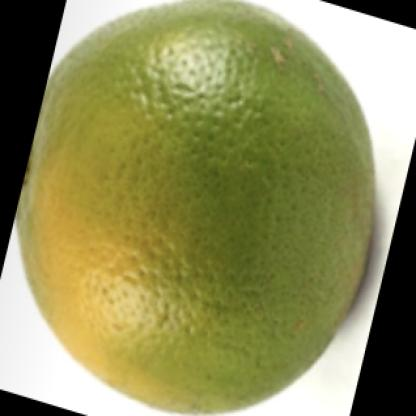fresh: (21, 1, 378, 414)
